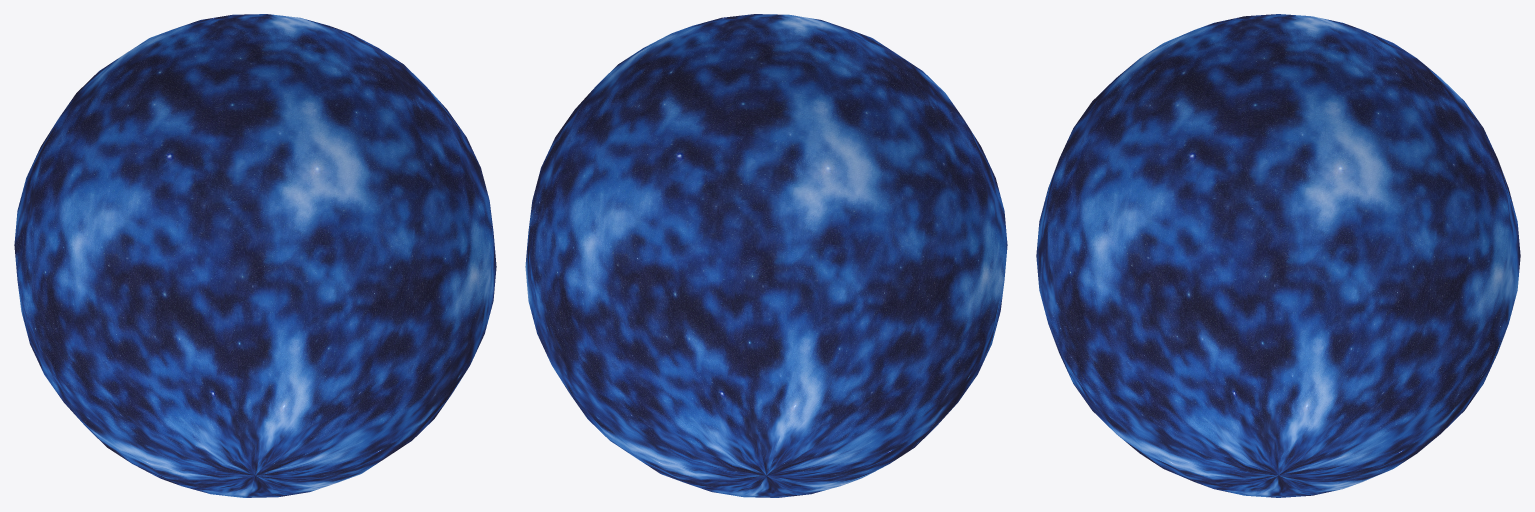
The model's file is SkysphereBlueGalaxy.glb.
3 views of the same model, side by side, from view 1: azimuth 30°, elevation 25°; view 2: azimuth 150°, elevation 25°; view 3: azimuth 270°, elevation 25° (orthographic).
Parts seen in each view (by area): view 1: SkySphere; view 2: SkySphere; view 3: SkySphere.
Boxes of the visible parts, left/top/right/bottom form: SkySphere: left=14, top=14, right=496, bottom=497; SkySphere: left=525, top=14, right=1007, bottom=497; SkySphere: left=1036, top=14, right=1520, bottom=497.
Bounding box in the file's own units: 7500 × 7500 × 7500.
Materials: 1 (1 with a texture image).
